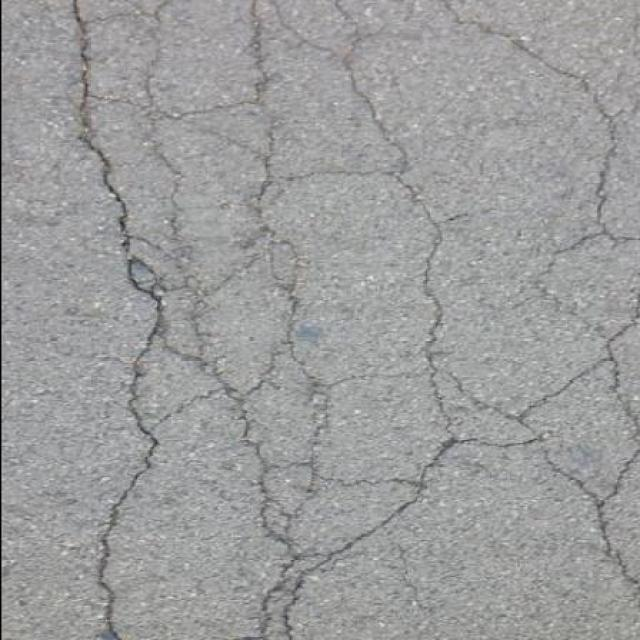Crack: (266, 0, 496, 640), (439, 0, 640, 612), (96, 302, 290, 640), (434, 369, 640, 612), (211, 1, 328, 399), (71, 0, 176, 440), (111, 0, 255, 300), (256, 402, 328, 513), (241, 504, 294, 640), (219, 270, 240, 285)
